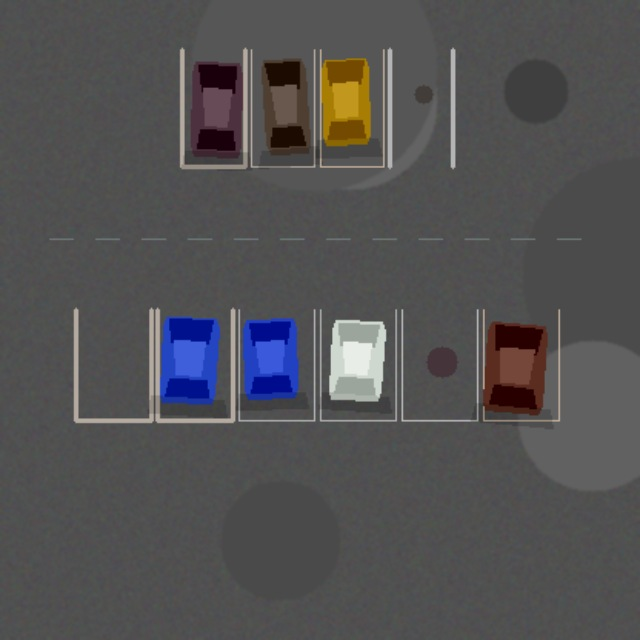space-empty: (75, 309, 151, 420), (402, 309, 477, 420), (389, 49, 452, 166)
space-occupied: (238, 309, 314, 420), (157, 309, 232, 420), (320, 309, 395, 420), (483, 309, 558, 420), (182, 49, 245, 166), (251, 49, 314, 166), (320, 49, 383, 166)
